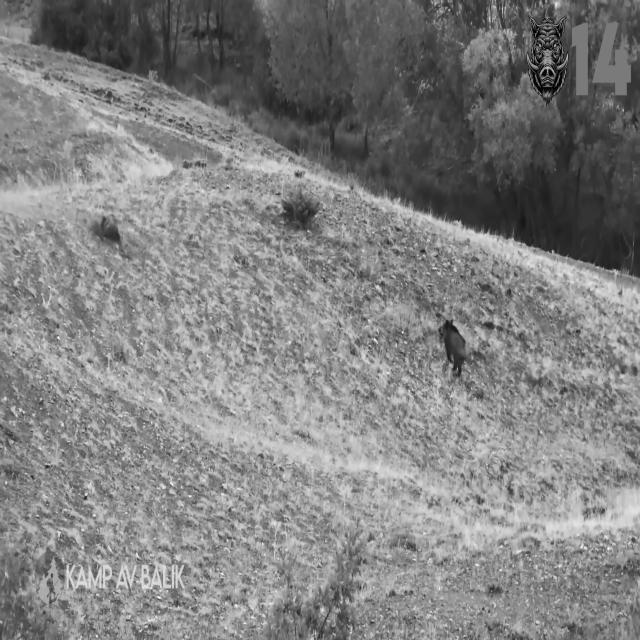boar: (439, 321, 466, 374), (101, 214, 119, 240)
